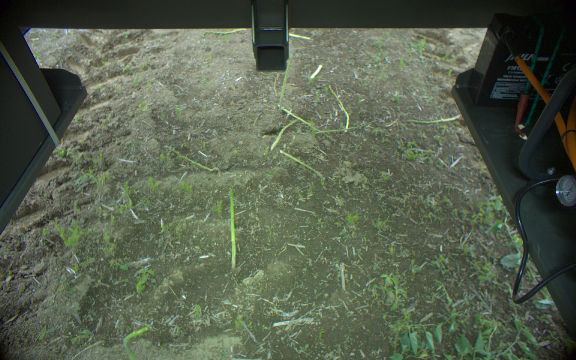aspa: (278, 48, 298, 110), (227, 186, 240, 269)
